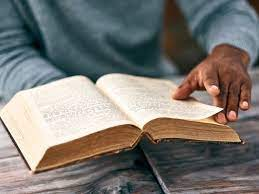Book: (1, 72, 245, 156)
